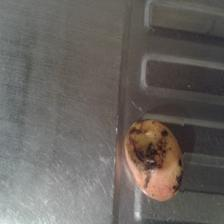Mango Semirotten: (124, 117, 184, 205)
